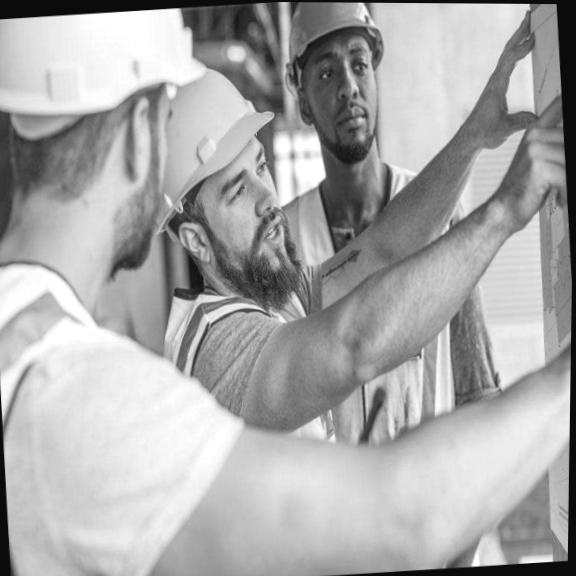safety_vest: (276, 160, 495, 576), (0, 222, 224, 576), (149, 267, 369, 576)
